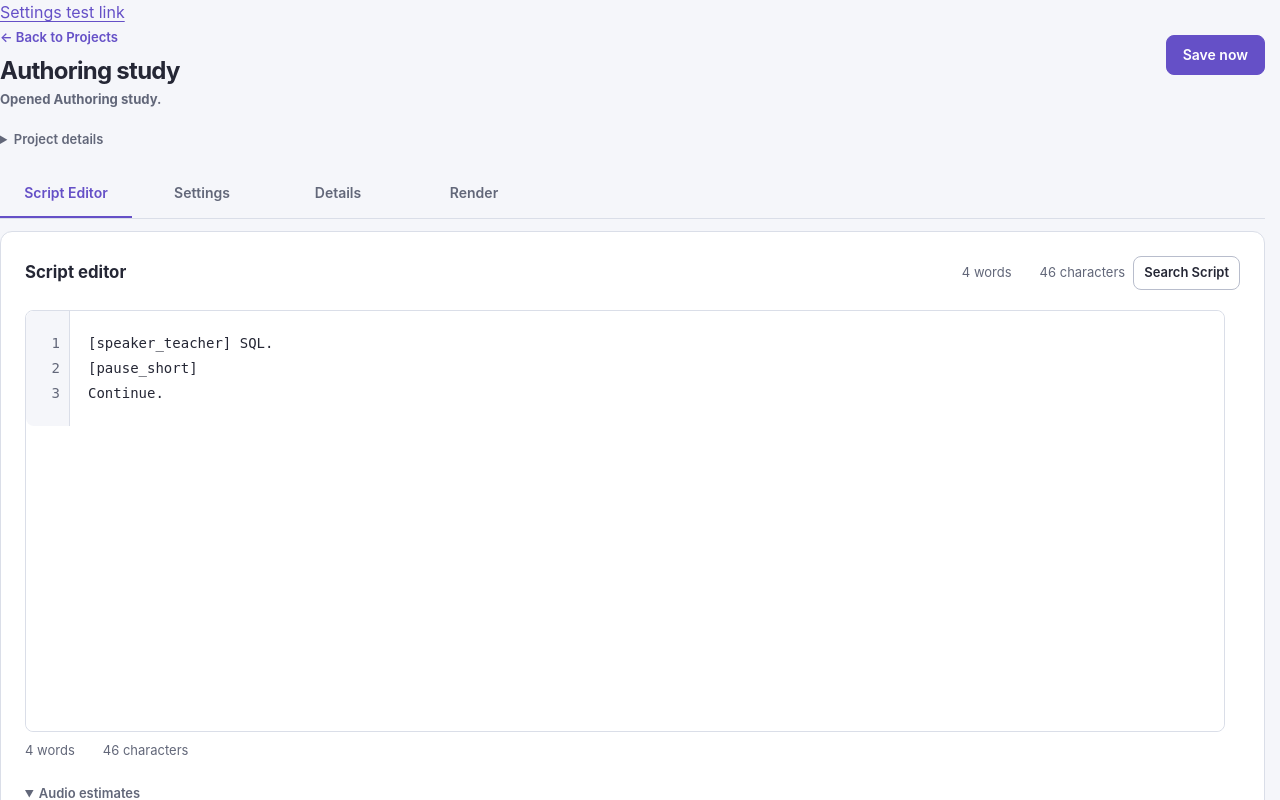
Test: Projects workbench › ignores stale estimate context after the configured voice changes
Click the tab "Settings" at (202, 194), box [136,170,268,218]
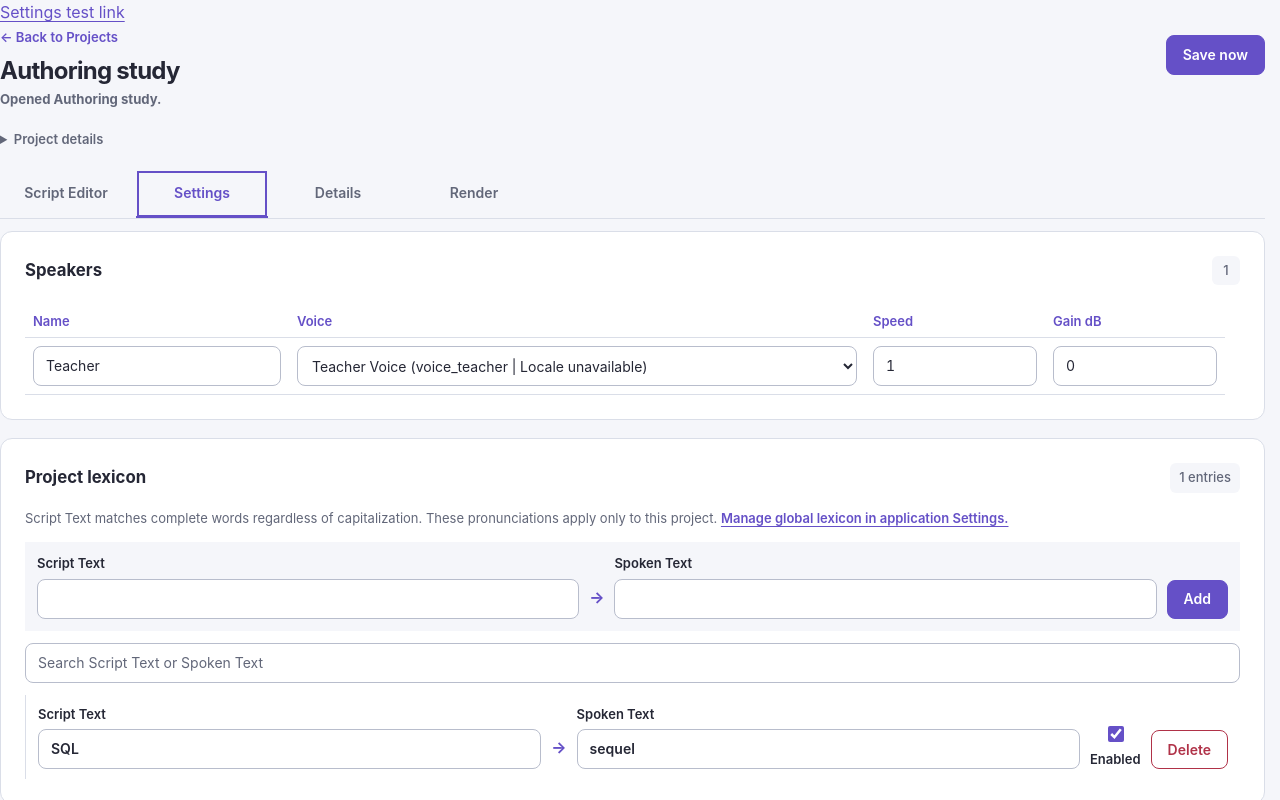
Select "Other Voice (voice_other | Locale unavailable)" in the dropdown named "Voice for speaker teacher" at (577, 366), box [297,346,857,386]
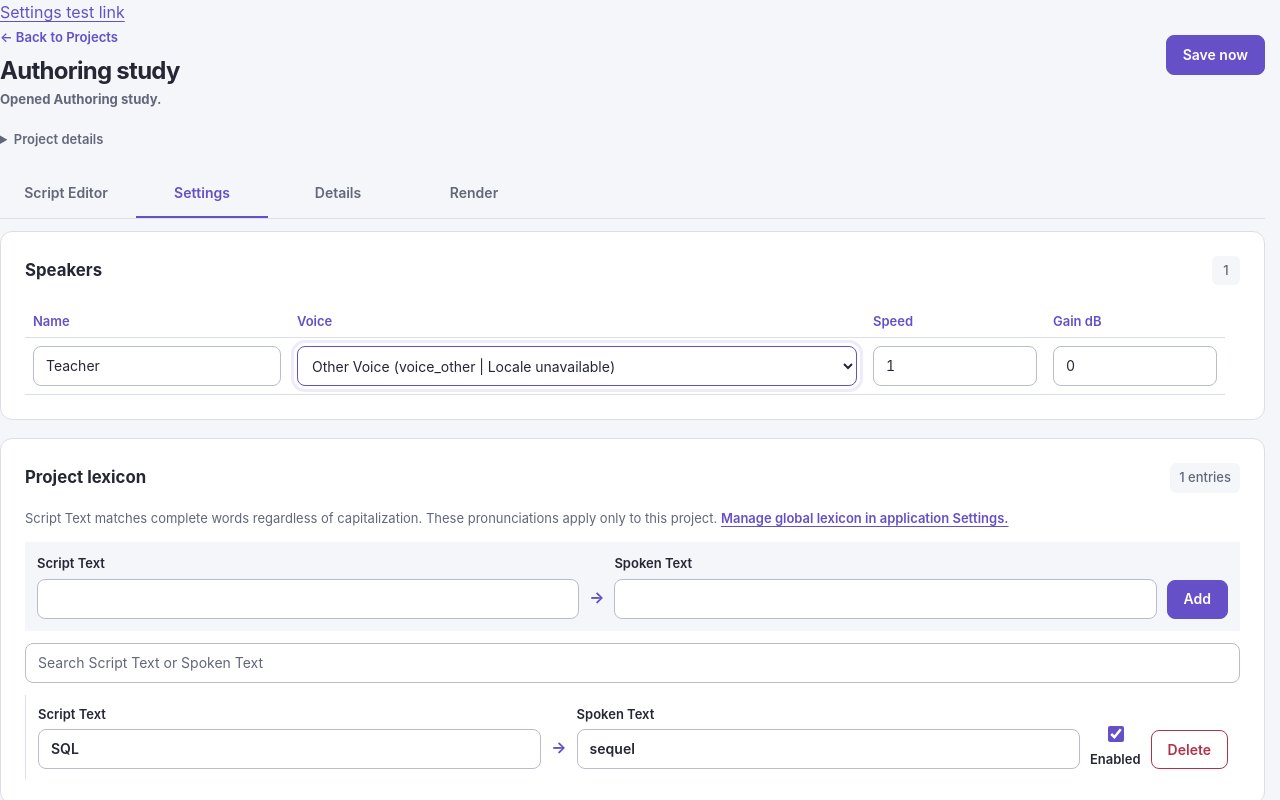
Click the tab "Script Editor" at (66, 194), box [0,170,132,218]
(page scrolled)
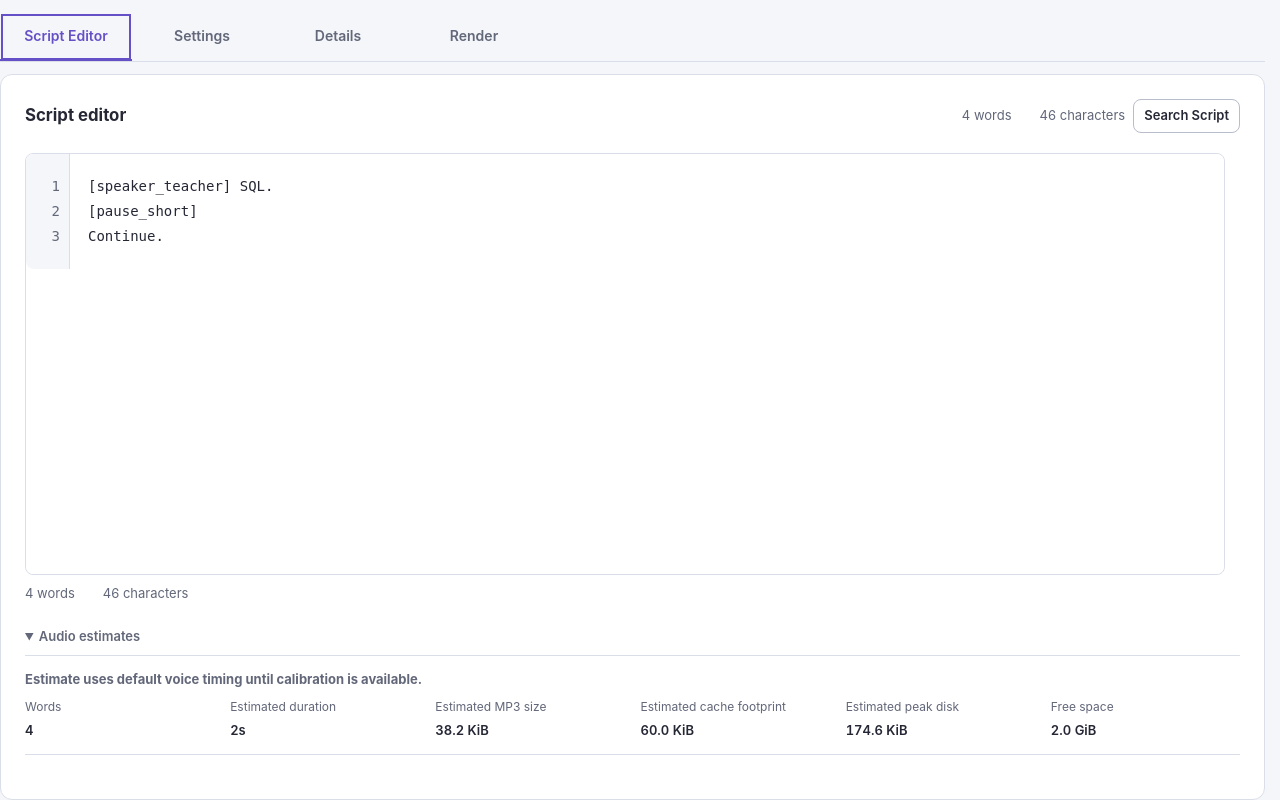
Expected: the text "2.0 GiB" is shown, [1051,722,1096,738]
